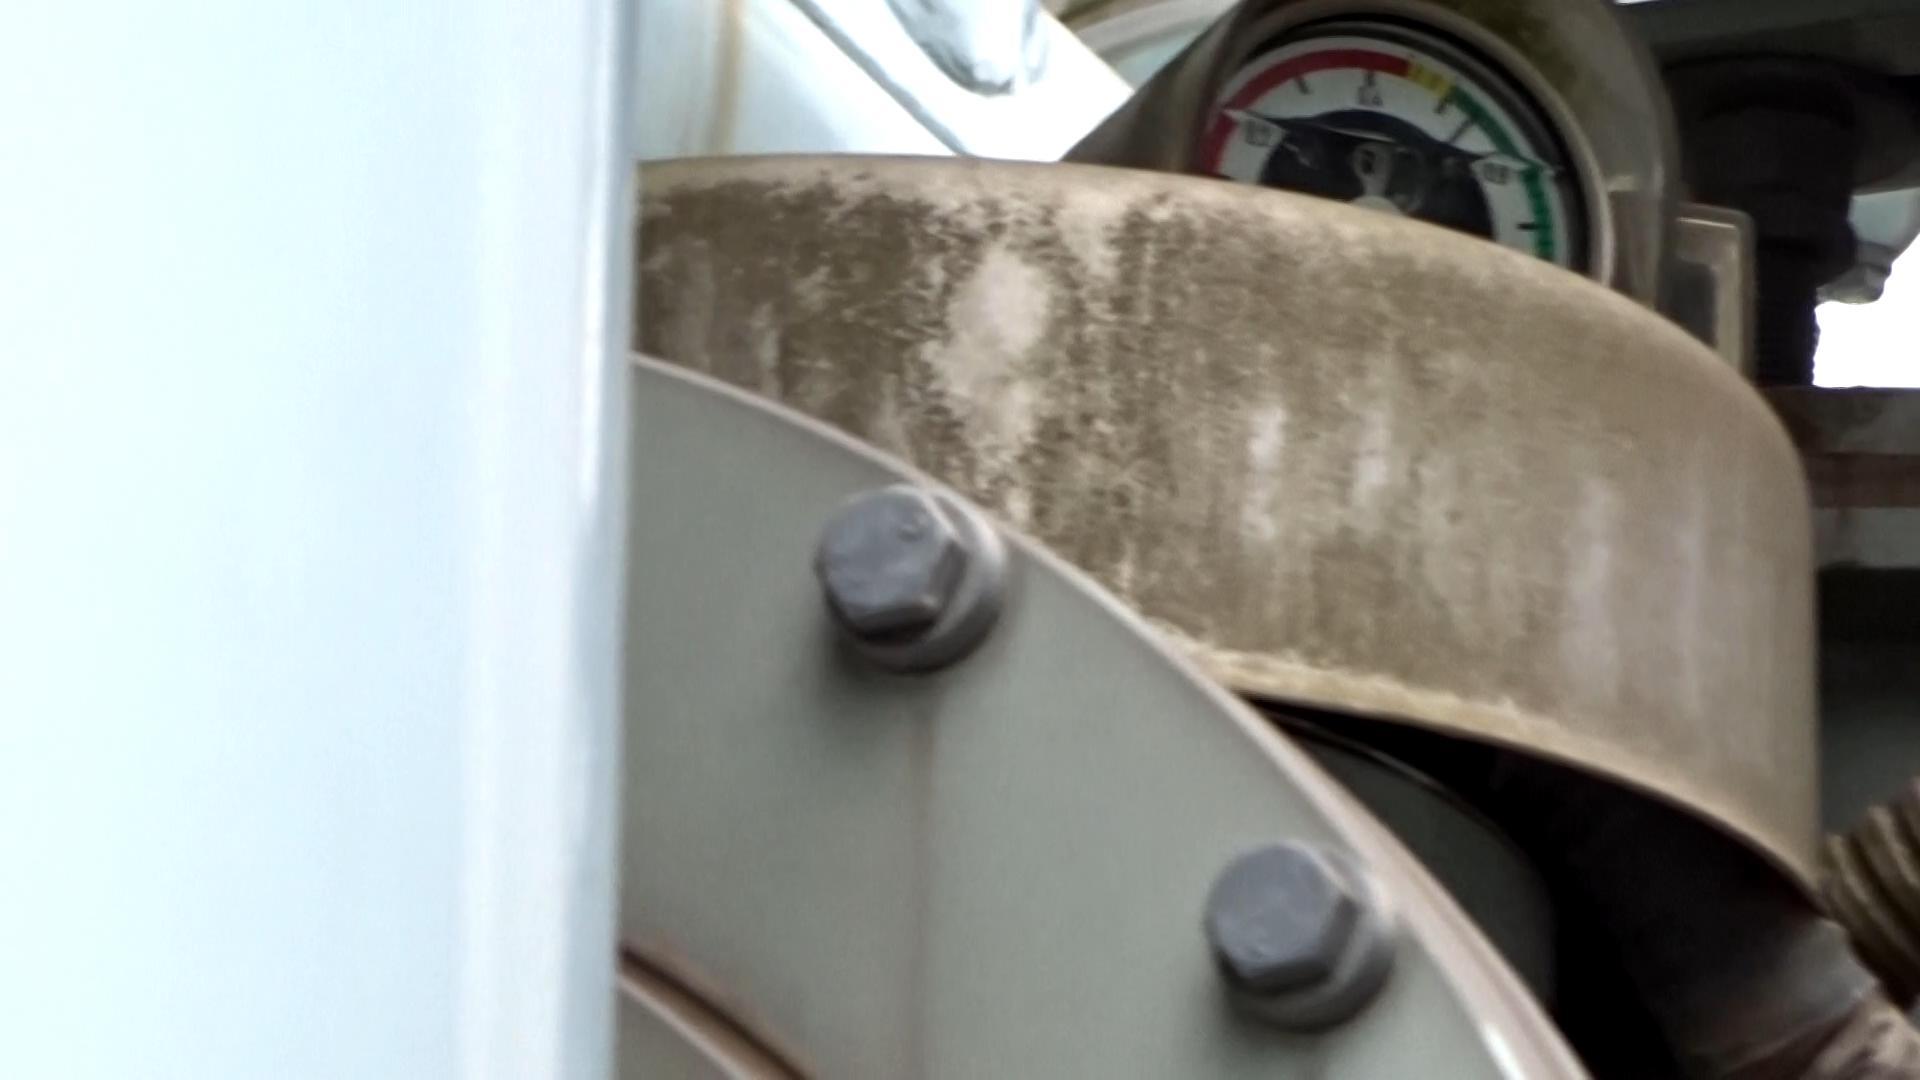instrument: (1200, 25, 1576, 272)
